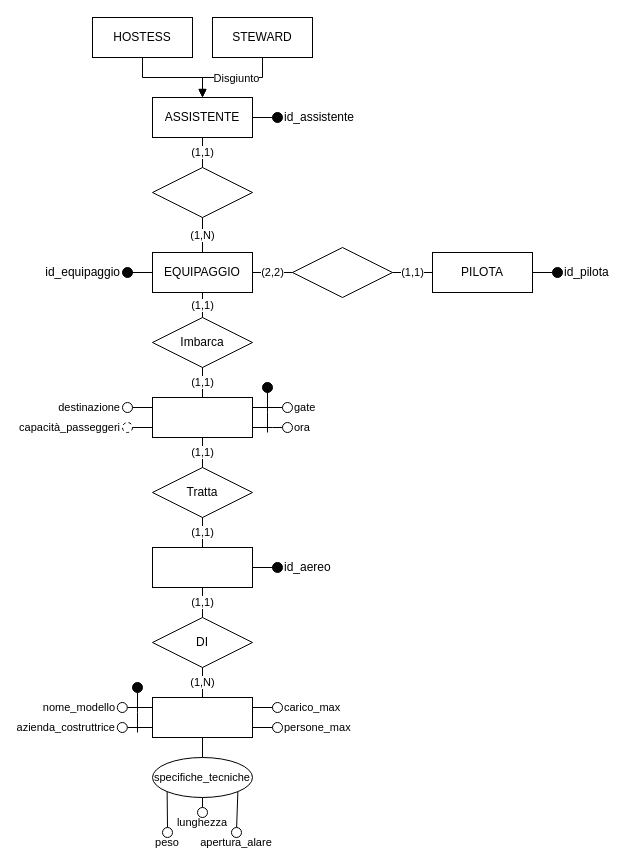
Image size: 627x866. Some labels were removed from this diagram. Each missing label, with the centre of its shape:
"AEROMOBILE" belongs at (x=202, y=567).
"Comanda" belongs at (x=342, y=272).
"Compone" belongs at (x=202, y=192).
"MODELLO" belongs at (x=202, y=717).
"VOLO" belongs at (x=202, y=417).
